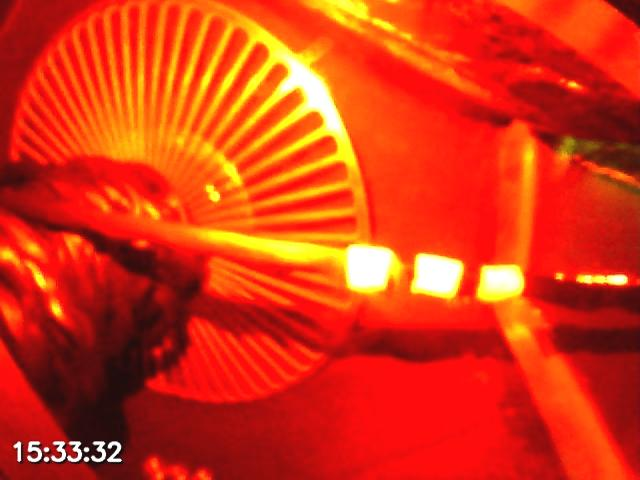white-dots: (341, 243, 525, 303)
